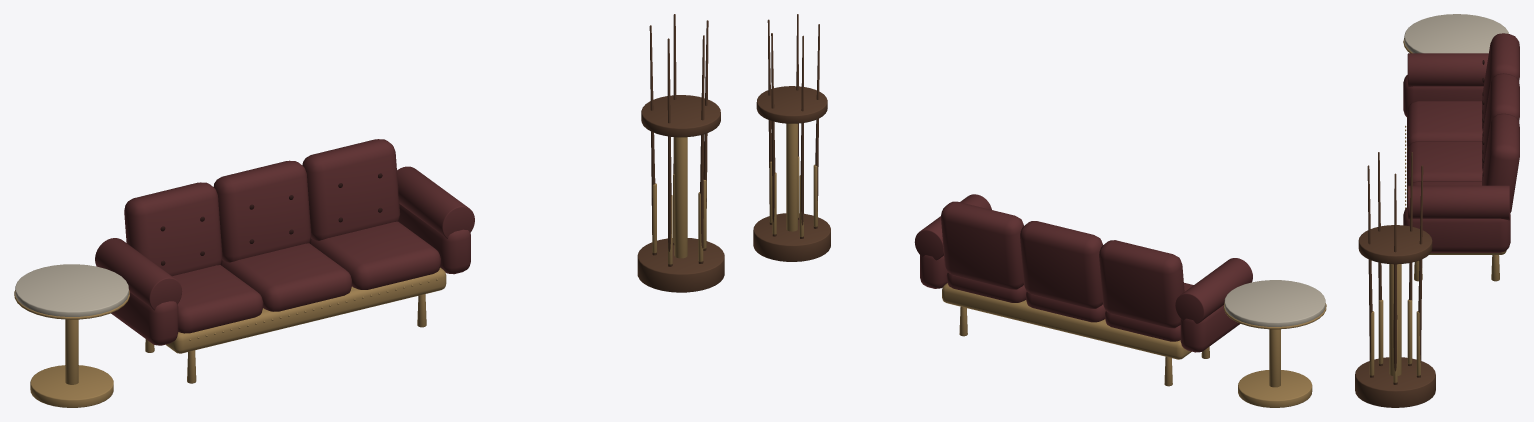
Rendered from corner-furniture.glb.
3 views of the same model, side by side, from view 1: azimuth 30°, elevation 25°; view 2: azimuth 150°, elevation 25°; view 3: azimuth 270°, elevation 25° (orthographic). The views are drawn at different scales.
Parts seen in each view (by area): view 1: Individual tailored seat cushion, Floating bench frame, Cue stand foot, Honed stone side table; view 2: Individual tailored seat cushion, Floating bench frame, Cue stand foot, Honed stone side table; view 3: Individual tailored seat cushion, Cue stand foot, Honed stone side table, Floating bench frame.
Part boxes in pixels (left/top/right/bottom): Individual tailored seat cushion: left=95, top=139, right=474, bottom=345; Floating bench frame: left=14, top=137, right=706, bottom=407; Cue stand foot: left=637, top=14, right=724, bottom=292; Honed stone side table: left=15, top=264, right=128, bottom=316; Individual tailored seat cushion: left=914, top=194, right=1252, bottom=352; Floating bench frame: left=769, top=123, right=1326, bottom=407; Cue stand foot: left=753, top=14, right=830, bottom=261; Honed stone side table: left=1224, top=280, right=1325, bottom=326; Individual tailored seat cushion: left=1403, top=33, right=1519, bottom=252; Cue stand foot: left=1355, top=152, right=1435, bottom=407; Honed stone side table: left=1404, top=14, right=1508, bottom=53; Floating bench frame: left=1369, top=38, right=1506, bottom=382.
Size of the model in its own units: 4.03 by 1.44 by 0.9381.
